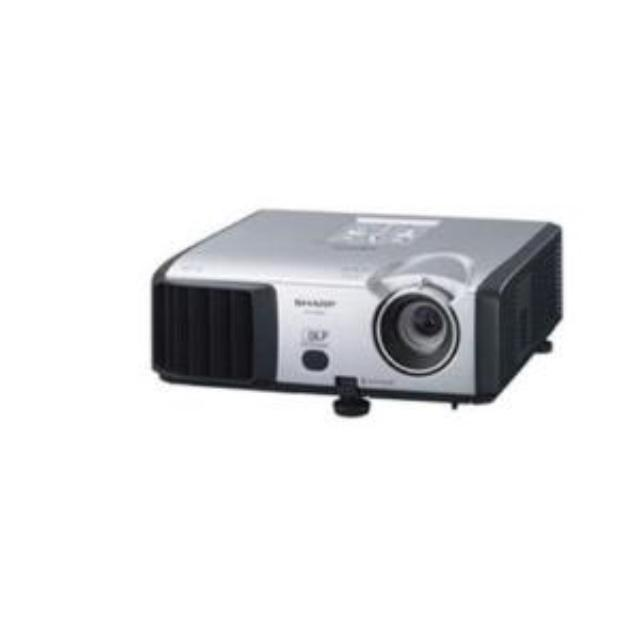Projector: (145, 204, 570, 418)
